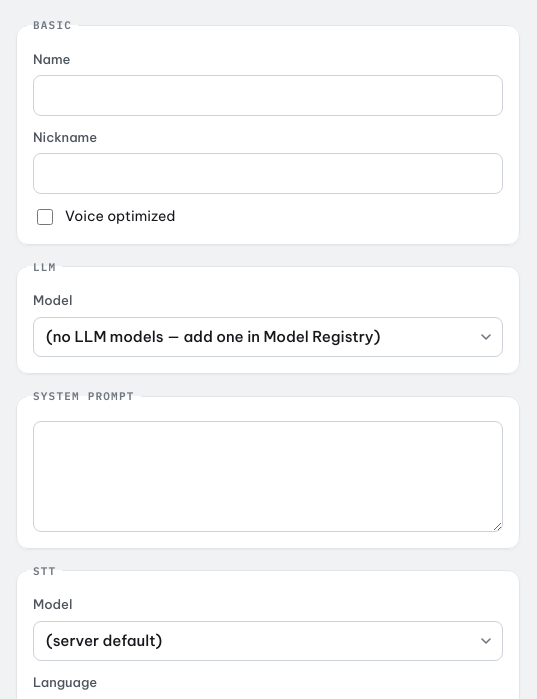
surfaces a server error on save
Type "dup" into the field labelled "Name" at (268, 95), box [33,75,503,116]
(page scrolled)
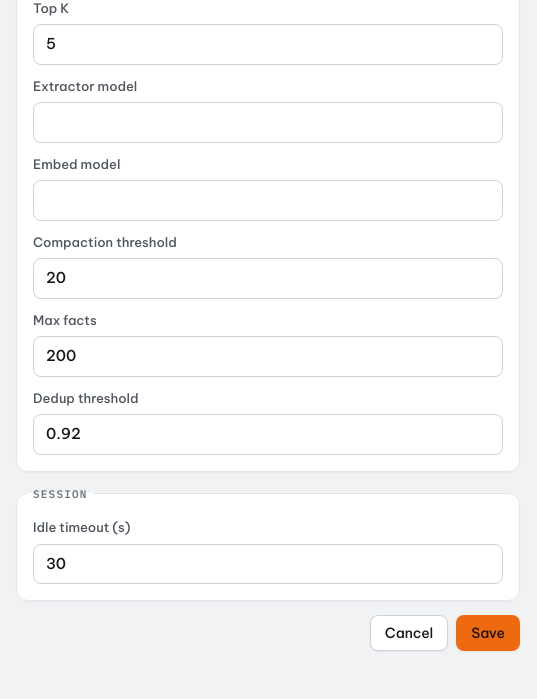
Click the button "Save" at (488, 633), box [456,615,520,651]
(page scrolled)
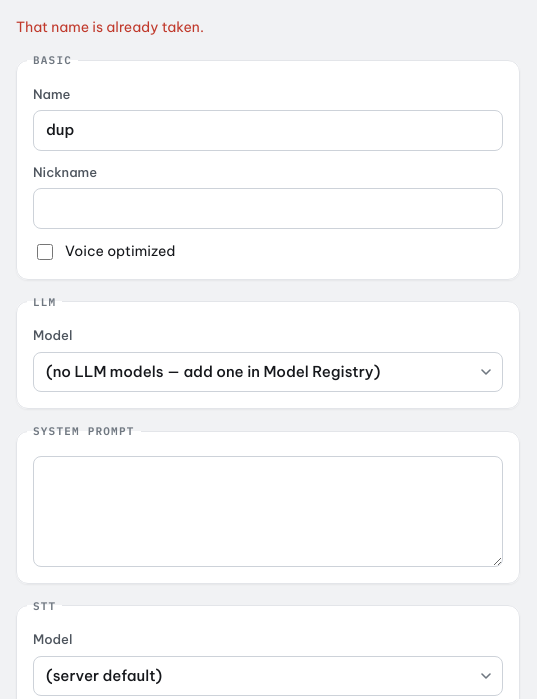
Now the text "That name is already taken." is shown, box [16,18,204,36]
